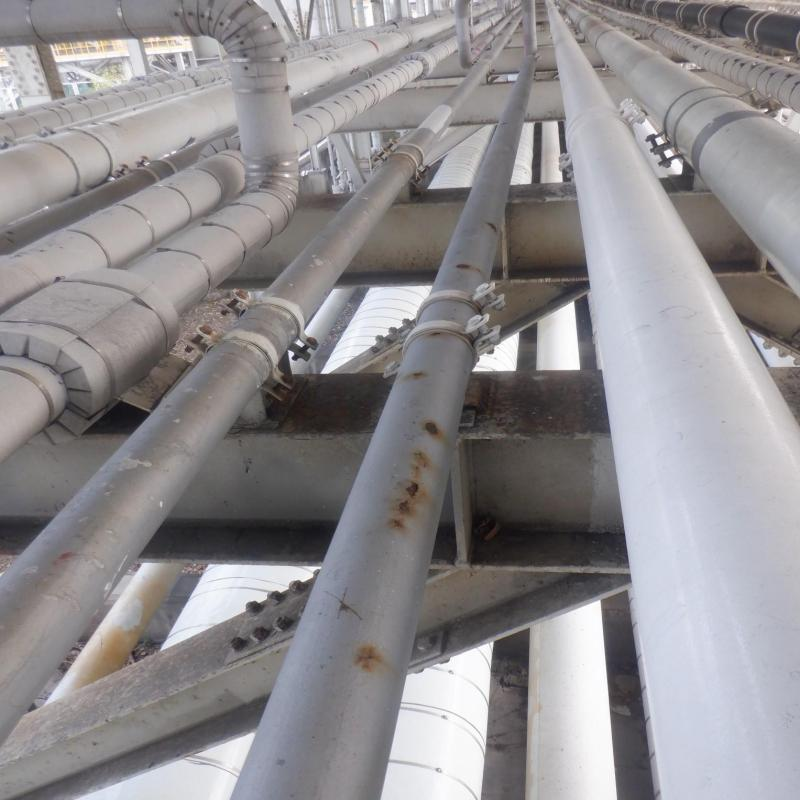corrosion: (406, 477, 430, 525), (422, 419, 448, 444)
